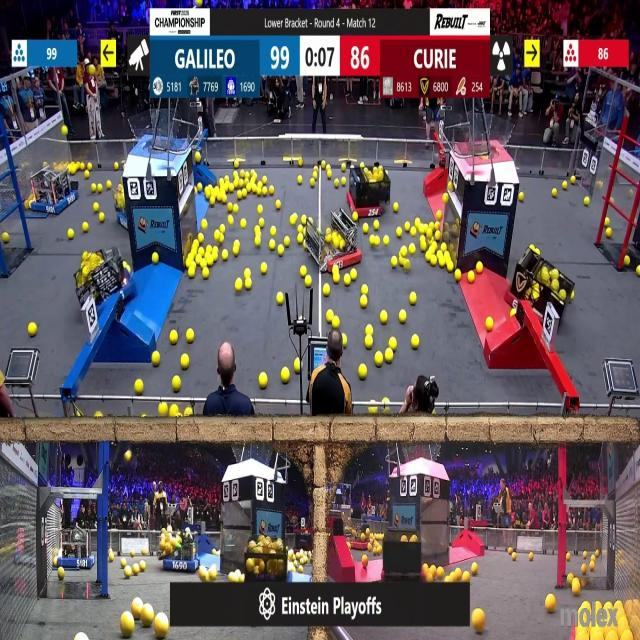ball_airborne: (90, 64, 97, 76), (126, 451, 133, 462), (62, 127, 69, 137), (195, 0, 201, 7)
ball_ground: (156, 616, 170, 639), (471, 610, 484, 634), (123, 615, 135, 637), (142, 606, 154, 626), (544, 595, 554, 613), (132, 600, 142, 615), (358, 363, 367, 378), (281, 367, 290, 382), (135, 380, 144, 394), (375, 352, 384, 366), (160, 404, 169, 418), (258, 374, 266, 389), (151, 352, 159, 366), (180, 354, 188, 368), (29, 322, 37, 336), (173, 378, 181, 392), (571, 583, 579, 597), (170, 332, 178, 345), (236, 279, 244, 292), (412, 337, 420, 350), (186, 328, 193, 342), (410, 292, 418, 304), (386, 350, 394, 362), (364, 338, 372, 350), (185, 254, 193, 266), (170, 406, 178, 418), (398, 311, 405, 324), (293, 359, 300, 372), (322, 284, 330, 295), (244, 279, 252, 290), (486, 318, 493, 330), (360, 295, 367, 307), (381, 312, 388, 324), (277, 292, 284, 304), (470, 563, 477, 575), (389, 339, 396, 351), (123, 566, 130, 578), (210, 568, 217, 580), (331, 273, 338, 285), (438, 567, 445, 579), (364, 324, 372, 334), (217, 192, 225, 202), (462, 570, 470, 580), (2, 233, 9, 244), (331, 317, 338, 328), (475, 265, 482, 276), (290, 214, 297, 225), (325, 311, 332, 322), (200, 567, 207, 578), (270, 240, 277, 251), (204, 268, 210, 280), (455, 270, 461, 282), (468, 272, 474, 284), (184, 409, 192, 418), (426, 230, 434, 239), (74, 634, 86, 640), (188, 269, 195, 279), (59, 568, 66, 578), (259, 265, 266, 275), (410, 244, 417, 254), (207, 255, 214, 265), (296, 235, 303, 245), (240, 218, 247, 228), (277, 246, 284, 256), (430, 256, 437, 266), (94, 203, 101, 213), (227, 571, 234, 581), (411, 225, 418, 235), (212, 232, 219, 242), (226, 182, 233, 192), (152, 253, 158, 264), (391, 256, 397, 267), (221, 250, 227, 261), (140, 561, 146, 572), (299, 267, 305, 278), (398, 257, 404, 268), (256, 182, 262, 193), (368, 409, 376, 417), (244, 270, 251, 279), (419, 224, 426, 233), (253, 225, 260, 234), (69, 166, 76, 175), (68, 230, 74, 240), (82, 222, 88, 232), (284, 237, 290, 247), (361, 284, 367, 294), (306, 277, 312, 287), (254, 238, 260, 248), (234, 246, 240, 256), (448, 262, 454, 272), (605, 230, 611, 240), (351, 270, 357, 280), (345, 276, 351, 286), (396, 229, 402, 239), (375, 220, 381, 230), (403, 262, 409, 272), (434, 232, 440, 242), (400, 247, 406, 257), (202, 220, 208, 230), (625, 256, 631, 266), (369, 237, 375, 247), (197, 258, 203, 268), (435, 210, 441, 220), (343, 336, 348, 348), (580, 565, 586, 575), (134, 564, 140, 574), (590, 562, 596, 572), (299, 214, 305, 224), (264, 185, 270, 195), (237, 189, 244, 197), (421, 239, 426, 250), (100, 213, 106, 222), (276, 201, 282, 210), (258, 218, 264, 227), (227, 215, 233, 224), (220, 223, 226, 232), (519, 191, 525, 200), (199, 234, 205, 243), (271, 226, 277, 235), (604, 217, 610, 226), (200, 247, 206, 256), (240, 573, 246, 582), (270, 185, 276, 194), (440, 258, 446, 267), (251, 183, 257, 192), (384, 236, 389, 246), (393, 203, 398, 213), (444, 192, 449, 202), (353, 212, 358, 222), (96, 413, 103, 420), (570, 176, 576, 184), (403, 222, 409, 230), (83, 171, 89, 179), (108, 555, 114, 563), (206, 245, 212, 253), (434, 221, 440, 229), (566, 554, 572, 562), (234, 162, 240, 170), (596, 601, 602, 609), (383, 396, 389, 404), (363, 223, 368, 232), (234, 204, 239, 213), (308, 181, 313, 190), (219, 234, 224, 243), (563, 181, 568, 190), (442, 243, 447, 252), (199, 186, 204, 195), (210, 198, 215, 207), (336, 178, 341, 187), (636, 267, 640, 278), (0, 373, 4, 384), (296, 224, 302, 231), (250, 171, 256, 178), (234, 172, 240, 179), (142, 550, 148, 557), (257, 206, 262, 214), (114, 164, 119, 172), (93, 183, 98, 191), (107, 180, 112, 188), (227, 204, 232, 212), (426, 252, 430, 262), (553, 188, 558, 196), (120, 560, 125, 568), (362, 556, 367, 564), (584, 552, 589, 560), (219, 178, 224, 186), (431, 242, 436, 250), (586, 198, 590, 207), (297, 176, 301, 185), (449, 182, 453, 191), (343, 180, 348, 187), (235, 241, 240, 248), (264, 177, 269, 184), (342, 163, 347, 170), (313, 172, 318, 179), (212, 550, 217, 557), (321, 163, 326, 170), (507, 546, 512, 553), (529, 554, 533, 562), (98, 184, 102, 192), (327, 171, 331, 179), (89, 164, 93, 172), (513, 553, 517, 561), (240, 171, 244, 179), (298, 565, 302, 573), (512, 310, 517, 316), (416, 218, 420, 225), (297, 161, 301, 168), (132, 551, 136, 558), (594, 551, 598, 558), (224, 175, 228, 182)
goal: (460, 118, 517, 158), (129, 116, 186, 151)
robot_blue: (75, 251, 130, 323), (30, 164, 78, 214), (154, 527, 202, 573), (59, 530, 95, 570)
robot_red: (512, 254, 573, 330), (346, 163, 391, 218), (323, 215, 363, 269), (345, 522, 370, 549)
